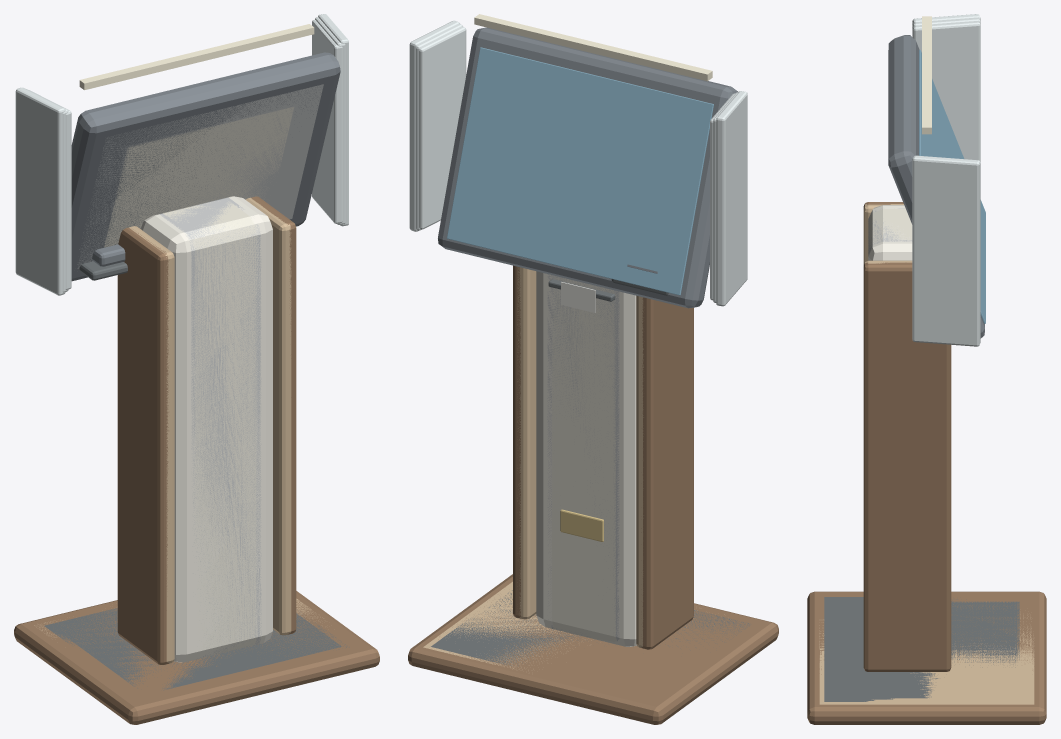
Rendered from Gear10.fbx.
3 views of the same model, side by side, from view 1: azimuth 30°, elevation 25°; view 2: azimuth 150°, elevation 25°; view 3: azimuth 270°, elevation 25° (orthographic). The views are drawn at different scales.
Visible parts, largest first — view 1: Gear10_V10_Walnut, Gear10_V1_Ivory, Gear10_V10_Graphite, Gear10_V10_Linen, Gear10_V6_BrushedSteel, Gear10_V2_Ivory, Gear10_V10_Acrylic, Gear10_V7_Oak, Gear10_V4_BrushedSteel, Gear10_V8_Linen, Gear10_V3_Ivory, Gear10_V2_Charcoal (+11 smaller); view 2: Gear10_V10_Walnut, Gear10_V10_ScreenUI, Gear10_V1_ScreenUI, Gear10_V1_Ivory, Gear10_V10_Graphite, Gear10_V5_ScreenUI, Gear10_V10_Linen, Gear10_V7_Oak, Gear10_V10_Acrylic, Gear10_V8_Acrylic, Gear10_V2_ScreenUI, Gear10_V7_ScreenUI (+22 smaller); view 3: Gear10_V10_Walnut, Gear10_V10_Acrylic, Gear10_V7_Oak, Gear10_V8_Acrylic, Gear10_V10_Graphite, Gear10_V3_Charcoal, Gear10_V1_Charcoal, Gear10_V2_Charcoal, Gear10_V4_Charcoal, Gear10_V9_Walnut, Gear10_V5_Charcoal, Gear10_V6_Charcoal (+7 smaller).
Part boxes in pixels (left/top/right/bottom): Gear10_V10_Walnut: left=14, top=196, right=379, bottom=724; Gear10_V1_Ivory: left=109, top=111, right=288, bottom=656; Gear10_V10_Graphite: left=71, top=52, right=340, bottom=281; Gear10_V10_Linen: left=141, top=196, right=272, bottom=662; Gear10_V6_BrushedSteel: left=77, top=84, right=323, bottom=654; Gear10_V2_Ivory: left=106, top=113, right=274, bottom=644; Gear10_V10_Acrylic: left=15, top=14, right=348, bottom=295; Gear10_V7_Oak: left=34, top=197, right=289, bottom=663; Gear10_V4_BrushedSteel: left=112, top=105, right=296, bottom=659; Gear10_V8_Linen: left=156, top=206, right=263, bottom=656; Gear10_V3_Ivory: left=104, top=107, right=294, bottom=654; Gear10_V2_Charcoal: left=52, top=610, right=341, bottom=690; Gear10_V10_Walnut: left=408, top=265, right=778, bottom=724; Gear10_V10_ScreenUI: left=447, top=47, right=713, bottom=295; Gear10_V1_ScreenUI: left=491, top=90, right=667, bottom=252; Gear10_V1_Ivory: left=553, top=276, right=615, bottom=642; Gear10_V10_Graphite: left=438, top=27, right=738, bottom=308; Gear10_V5_ScreenUI: left=461, top=61, right=698, bottom=281; Gear10_V10_Linen: left=536, top=271, right=636, bottom=646; Gear10_V7_Oak: left=519, top=267, right=642, bottom=647; Gear10_V10_Acrylic: left=409, top=20, right=747, bottom=306; Gear10_V8_Acrylic: left=419, top=27, right=734, bottom=300; Gear10_V2_ScreenUI: left=489, top=89, right=670, bottom=254; Gear10_V7_ScreenUI: left=457, top=56, right=704, bottom=286; Gear10_V10_Walnut: left=807, top=202, right=1046, bottom=724; Gear10_V10_Acrylic: left=912, top=14, right=980, bottom=346; Gear10_V7_Oak: left=822, top=204, right=1031, bottom=703; Gear10_V8_Acrylic: left=912, top=22, right=980, bottom=161; Gear10_V10_Graphite: left=888, top=35, right=984, bottom=338; Gear10_V3_Charcoal: left=831, top=616, right=938, bottom=698; Gear10_V1_Charcoal: left=951, top=603, right=1017, bottom=667; Gear10_V2_Charcoal: left=951, top=601, right=1019, bottom=662; Gear10_V4_Charcoal: left=829, top=599, right=894, bottom=699; Gear10_V9_Walnut: left=817, top=204, right=1036, bottom=705; Gear10_V5_Charcoal: left=827, top=598, right=874, bottom=700; Gear10_V6_Charcoal: left=824, top=597, right=966, bottom=701.
Size of the model in its own units: 72.83 by 134 by 49.
